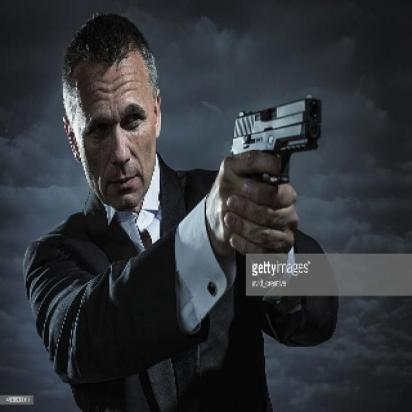Gun: (225, 97, 323, 159)
